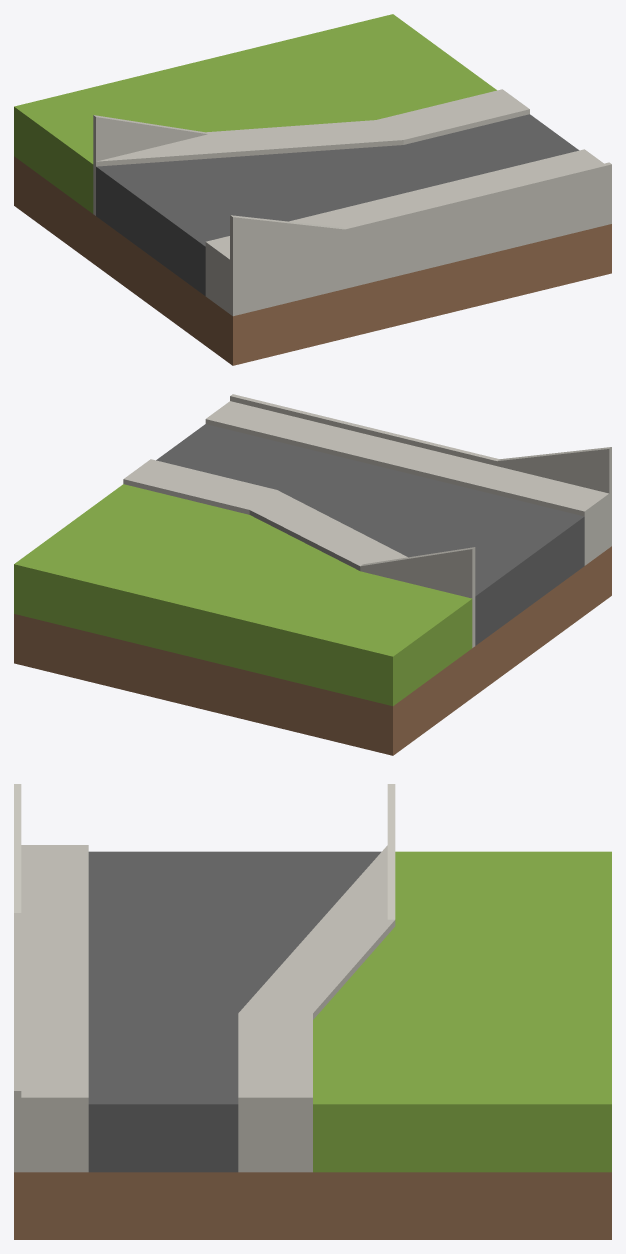
Rendered from track-pit-entrylane-small.obj.
3 renders of one model, top to bottom at view 1: azimuth 30°, elevation 25°; view 2: azimuth 150°, elevation 25°; view 3: azimuth 270°, elevation 25°, orthographic. The views are drawn at different scales.
Parts seen in each view (by area): view 1: track-pit-entrylane-small_Cube.032; view 2: track-pit-entrylane-small_Cube.032; view 3: track-pit-entrylane-small_Cube.032.
Boxes of the visible parts, x1=… form: track-pit-entrylane-small_Cube.032: x1=14, y1=14, x2=611, y2=365; track-pit-entrylane-small_Cube.032: x1=14, y1=394, x2=611, y2=755; track-pit-entrylane-small_Cube.032: x1=14, y1=784, x2=611, y2=1239.
Bounding box in the file's own units: 8 × 3 × 8.
1 material, 1 textured.
